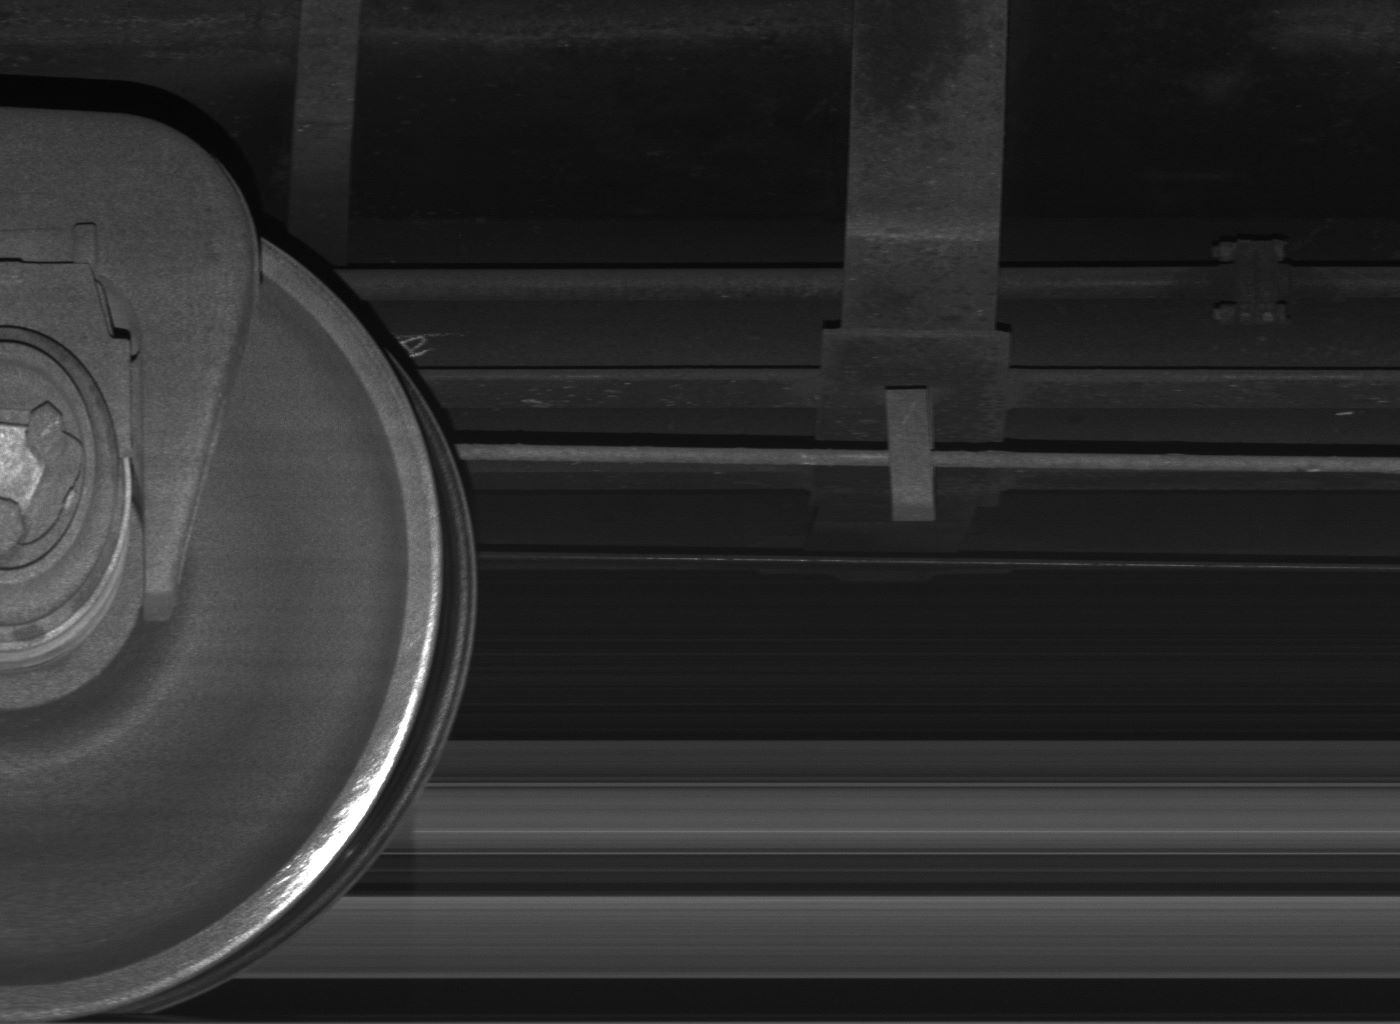normal: (887, 387, 937, 523)
